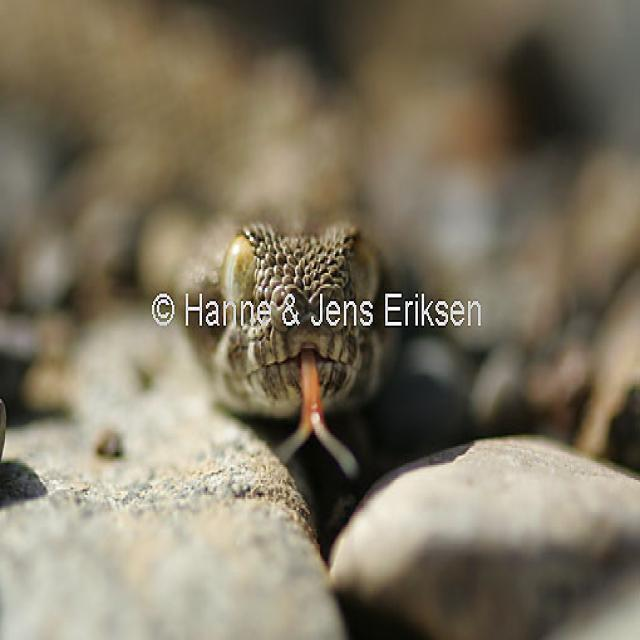Snake: (176, 213, 402, 478)
